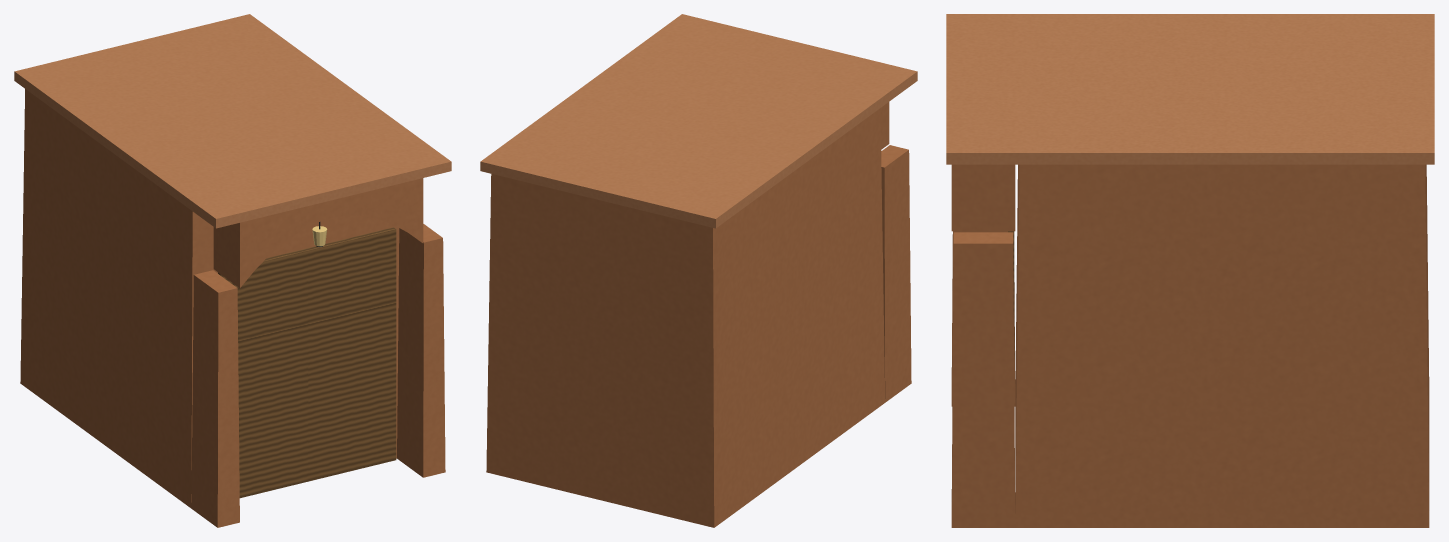
The model's file is SM_Souq_Stall_W3D45H38.fbx.
3 renders of one model, left to right at view 1: azimuth 30°, elevation 25°; view 2: azimuth 150°, elevation 25°; view 3: azimuth 270°, elevation 25°, orthographic. The views are drawn at different scales.
Visible parts, largest first — view 1: SM_Souq_Stall_W3D45H38; view 2: SM_Souq_Stall_W3D45H38; view 3: SM_Souq_Stall_W3D45H38.
Part boxes in pixels (left/top/right/bottom): SM_Souq_Stall_W3D45H38: left=14, top=14, right=451, bottom=527; SM_Souq_Stall_W3D45H38: left=480, top=14, right=917, bottom=527; SM_Souq_Stall_W3D45H38: left=946, top=14, right=1434, bottom=527.
Size of the model in its own units: 3.1 by 3.92 by 4.6.
Materials: 5 (5 with a texture image).
